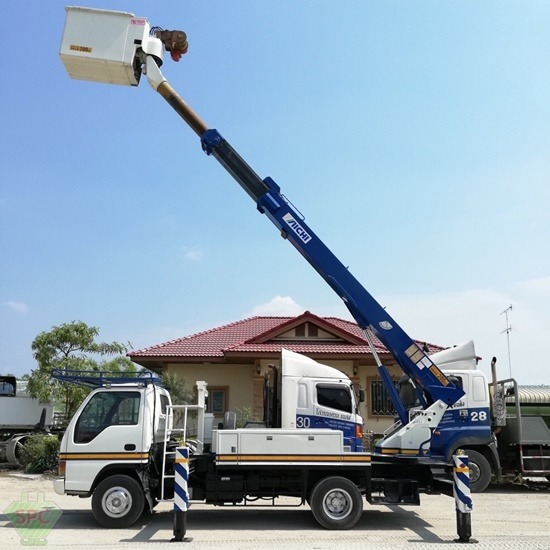truck: (51, 371, 469, 530)
